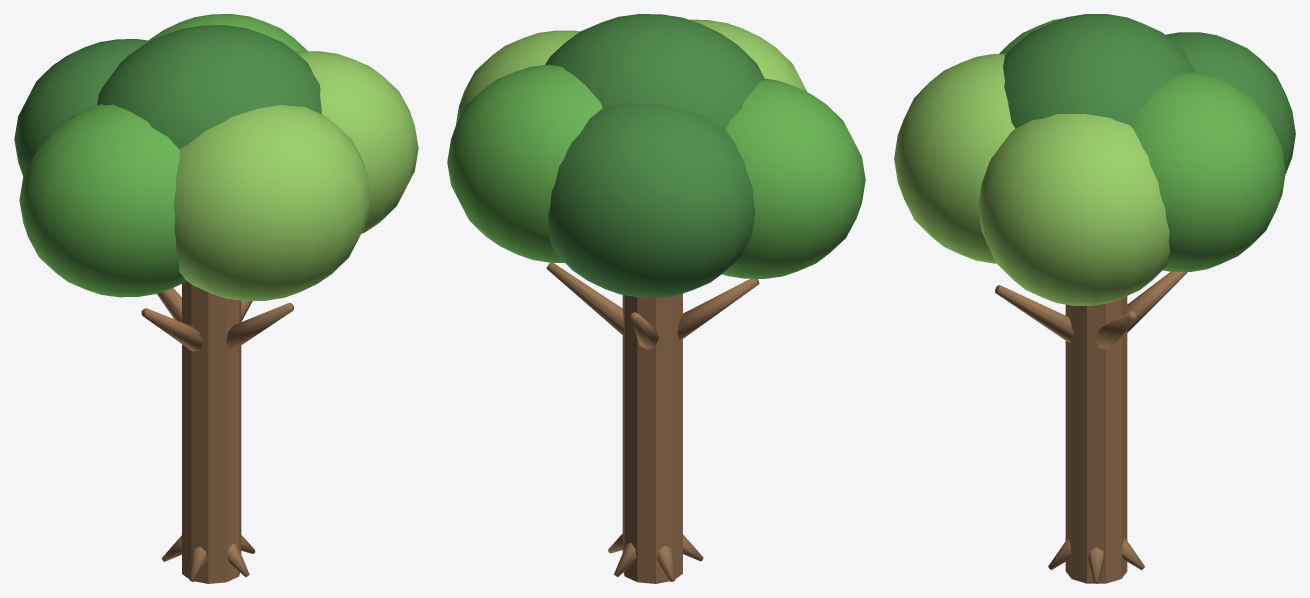
The model's file is Tree_Large.fbx.
3 views of the same model, side by side, from view 1: azimuth 30°, elevation 25°; view 2: azimuth 150°, elevation 25°; view 3: azimuth 270°, elevation 25° (orthographic). The views are drawn at different scales.
Parts seen in each view (by area): view 1: Canopy_Cluster_05.001, Canopy_Cluster_01.001, Canopy_Cluster_00.001, Tree_Trunk.001, Canopy_Cluster_02.001, Canopy_Cluster_03.001, Canopy_Cluster_04.001, Branch_03.002, Branch_02.002; view 2: Canopy_Cluster_03.001, Canopy_Cluster_01.001, Canopy_Cluster_04.001, Tree_Trunk.001, Canopy_Cluster_00.001, Canopy_Cluster_02.001, Canopy_Cluster_05.001, Branch_02.002, Branch_00.002, Branch_01.002; view 3: Canopy_Cluster_02.001, Canopy_Cluster_04.001, Canopy_Cluster_05.001, Tree_Trunk.001, Canopy_Cluster_00.001, Canopy_Cluster_03.001, Branch_03.002, Branch_01.002, Branch_00.002.
Boxes of the visible parts, x1,y1,x2,y2 form: Canopy_Cluster_05.001: [174, 105, 371, 301]; Canopy_Cluster_01.001: [19, 104, 186, 297]; Canopy_Cluster_00.001: [97, 25, 321, 149]; Tree_Trunk.001: [182, 281, 241, 583]; Canopy_Cluster_02.001: [296, 51, 418, 233]; Canopy_Cluster_03.001: [14, 39, 151, 176]; Canopy_Cluster_04.001: [148, 14, 307, 51]; Branch_03.002: [226, 303, 294, 350]; Branch_02.002: [141, 308, 202, 351]; Canopy_Cluster_03.001: [548, 103, 755, 297]; Canopy_Cluster_01.001: [722, 78, 865, 278]; Canopy_Cluster_04.001: [447, 64, 602, 262]; Tree_Trunk.001: [622, 293, 682, 583]; Canopy_Cluster_00.001: [545, 14, 765, 129]; Canopy_Cluster_02.001: [456, 30, 579, 124]; Canopy_Cluster_05.001: [689, 19, 807, 92]; Branch_02.002: [677, 278, 759, 339]; Branch_00.002: [546, 263, 623, 335]; Branch_01.002: [630, 312, 659, 349]; Canopy_Cluster_02.001: [978, 113, 1169, 305]; Canopy_Cluster_04.001: [1130, 71, 1285, 271]; Canopy_Cluster_05.001: [894, 54, 1015, 263]; Tree_Trunk.001: [1065, 296, 1127, 583]; Canopy_Cluster_00.001: [1003, 14, 1195, 128]; Canopy_Cluster_03.001: [1165, 32, 1295, 173]; Branch_03.002: [995, 285, 1074, 342]; Branch_01.002: [1127, 272, 1187, 332]; Branch_00.002: [1095, 311, 1136, 349].
Bounding box in the file's own units: 426 × 584 × 391.
